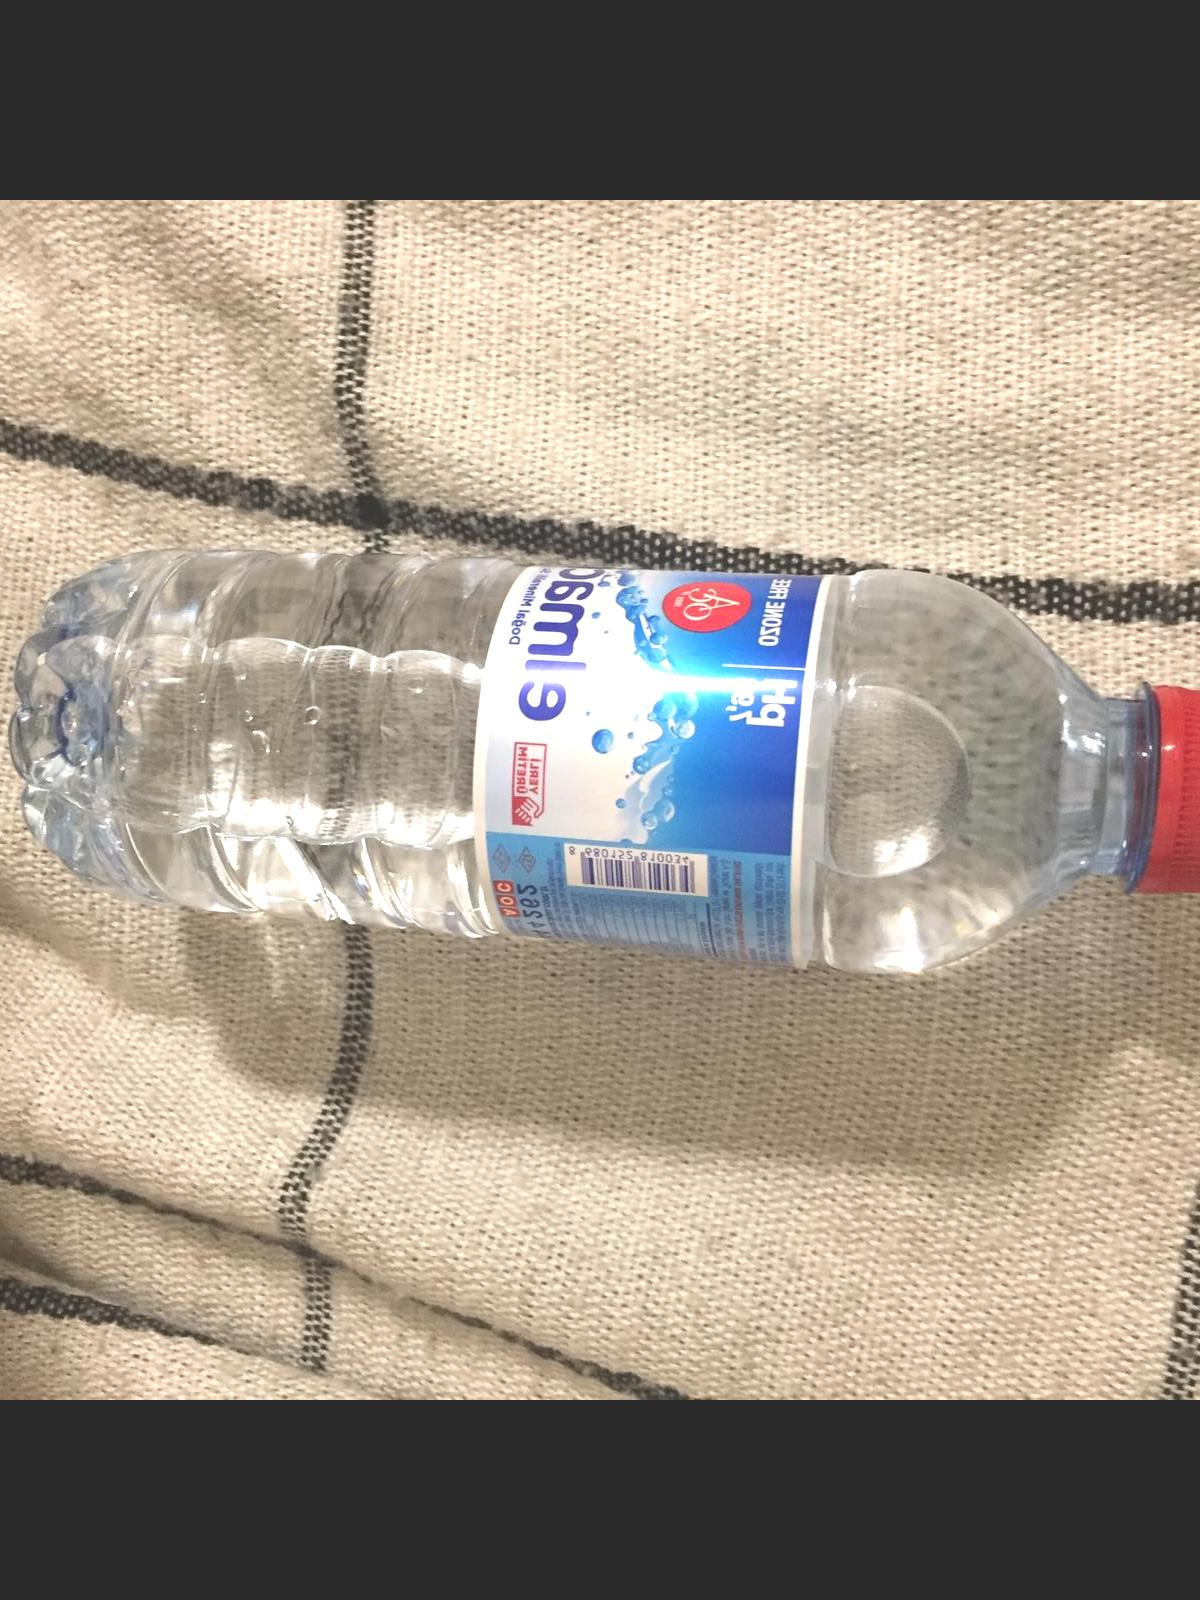bottle: (8, 534, 1200, 981)
